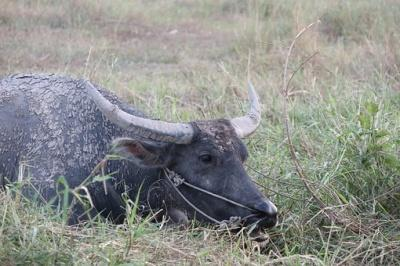buffalo: (0, 74, 276, 242)
